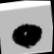correct: (9, 20, 47, 51)
